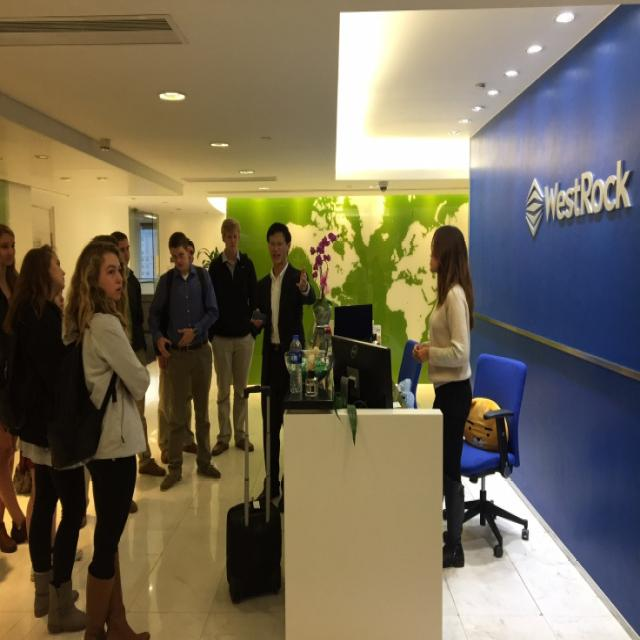body: (59, 235, 153, 639), (3, 242, 98, 636), (410, 221, 479, 573), (247, 220, 317, 507), (148, 230, 222, 492), (108, 229, 169, 479), (12, 454, 136, 570), (207, 217, 257, 458), (155, 236, 200, 465), (0, 223, 29, 553), (87, 225, 123, 249), (53, 290, 65, 313)
